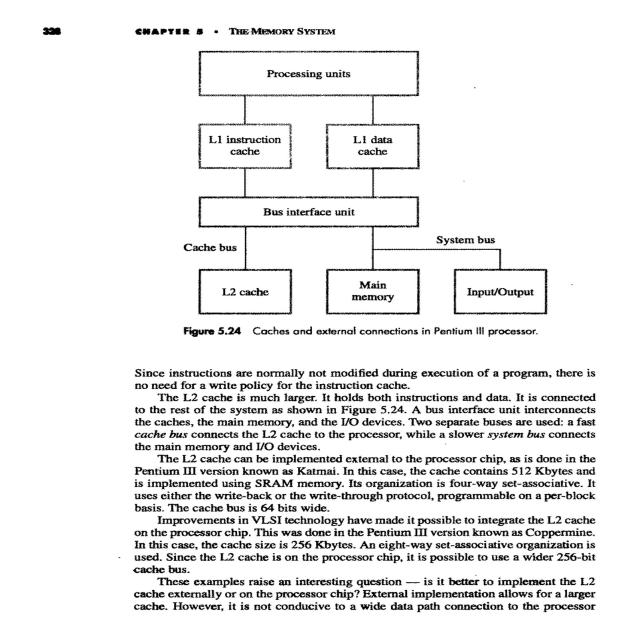diagram: (120, 39, 612, 362)
